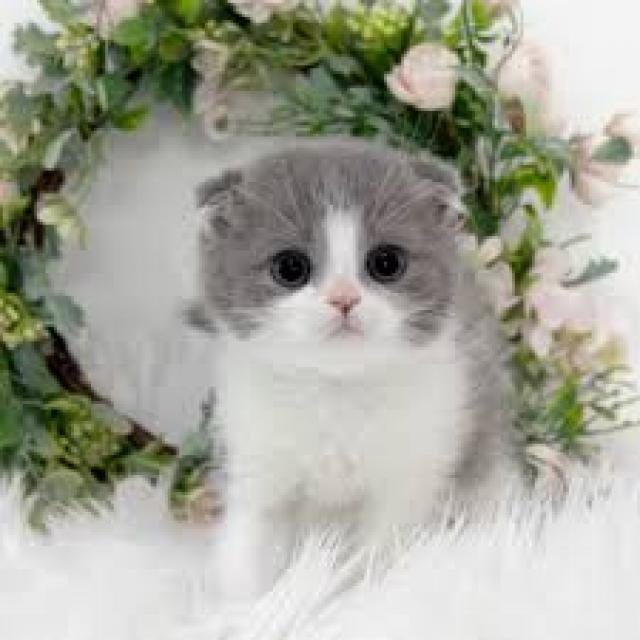cat-face: (162, 102, 501, 402)
